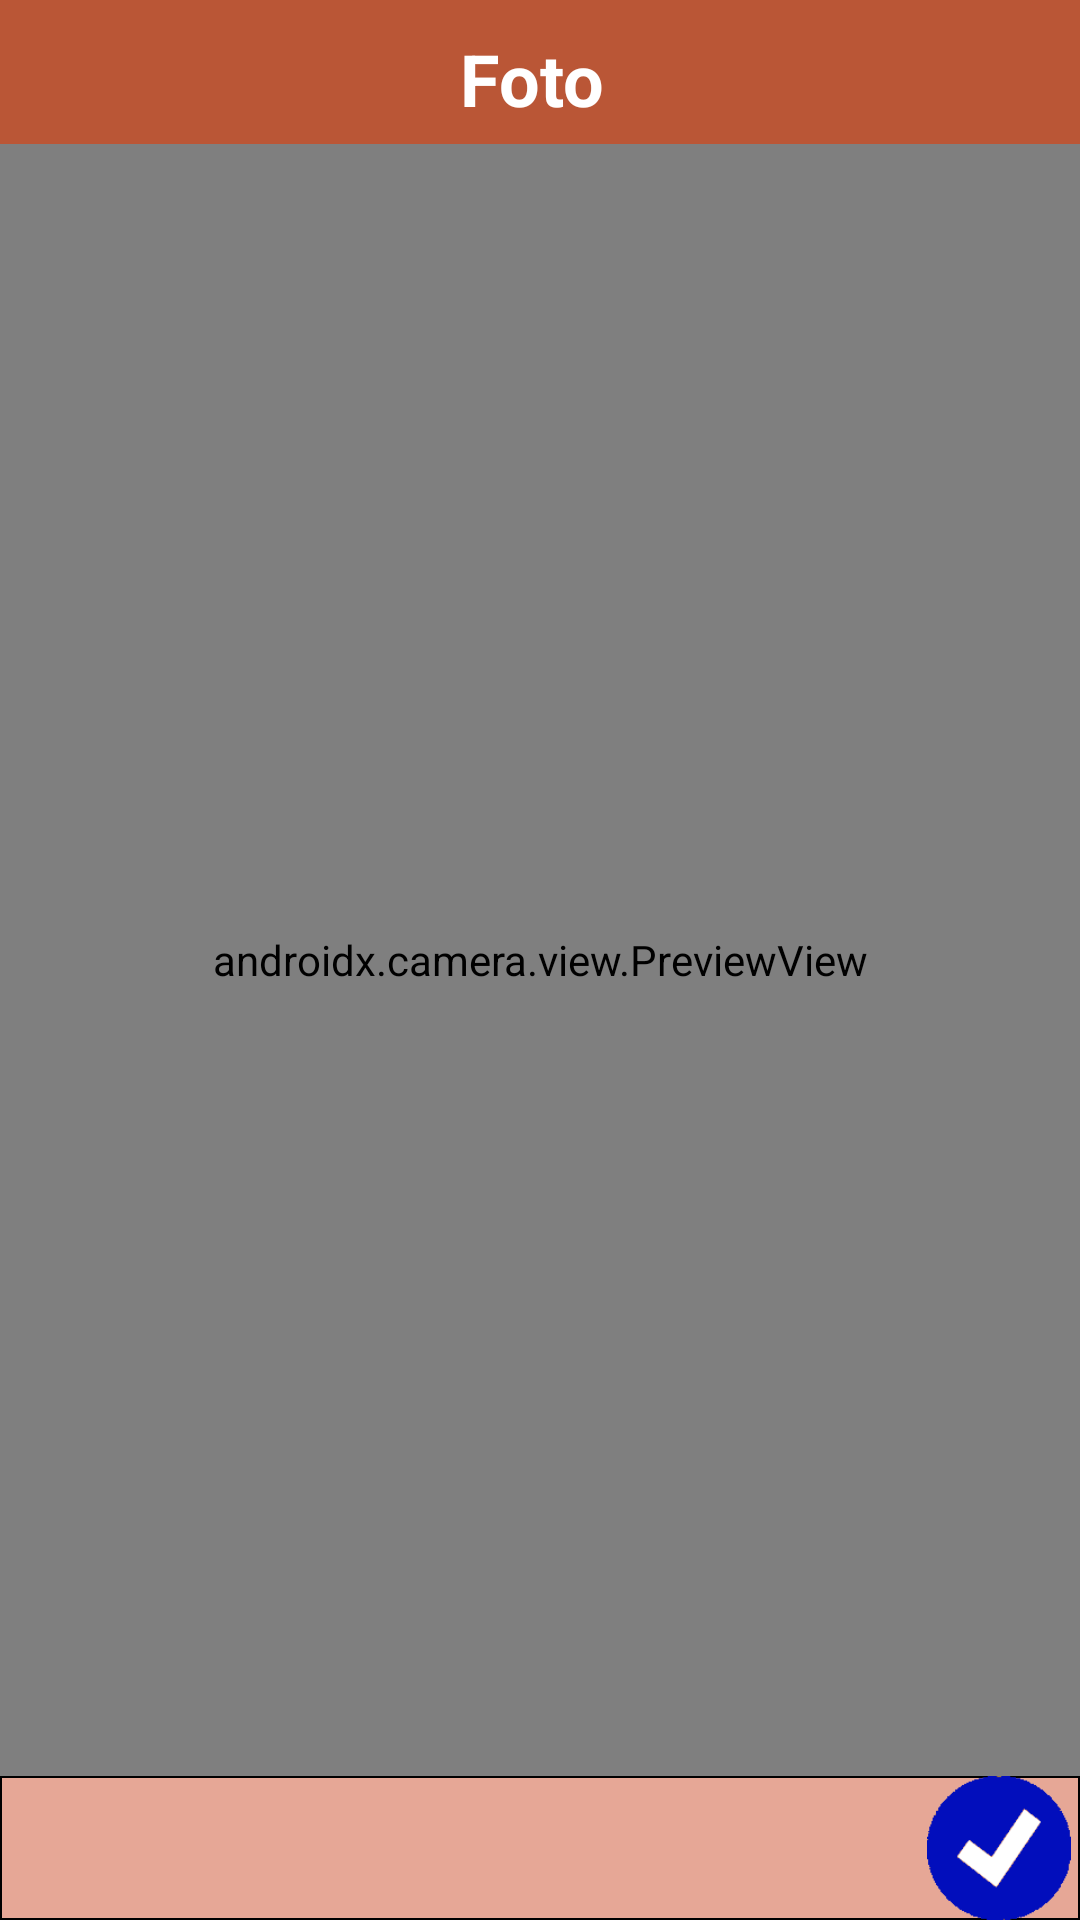

Icons on this 1080*1920 Android screen, each with the point to tap as [x,y]:
saveb: [999,1848]
